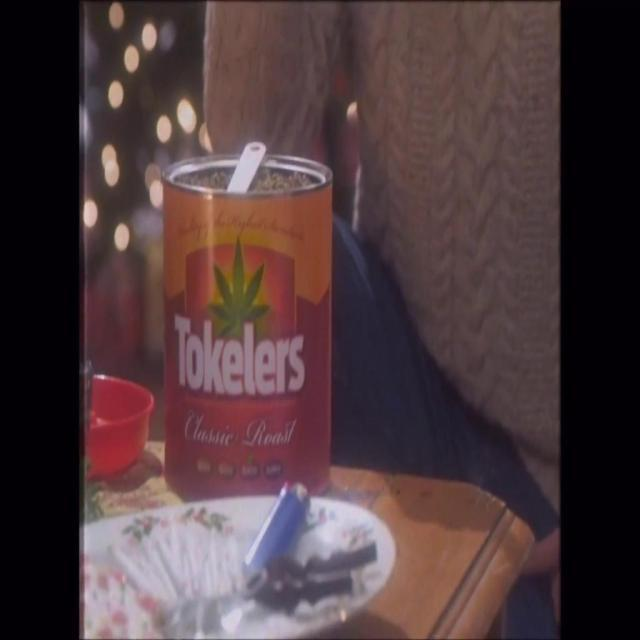smoking: (104, 494, 249, 620)
